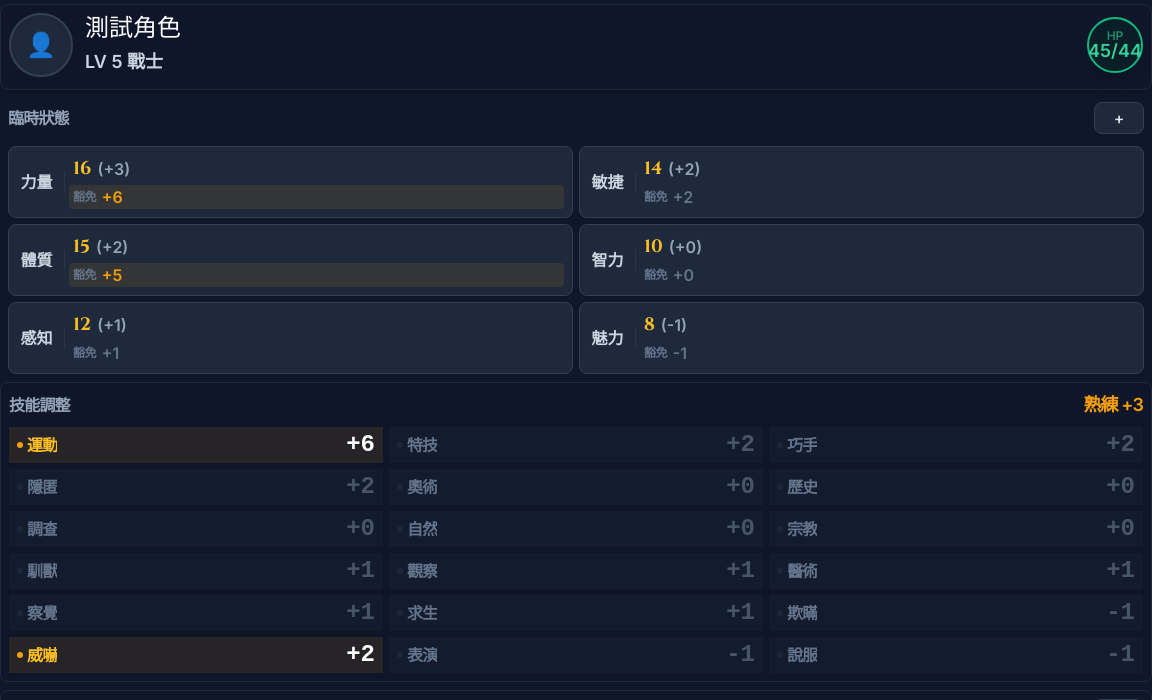
Test: CharacterSheet - Modal 開啟與儲存 › 編輯角色資料 modal：開啟後可看到名稱與職業等級區塊
Click the heading "測試角色".
click(133, 29)  # box [85,13,181,45]
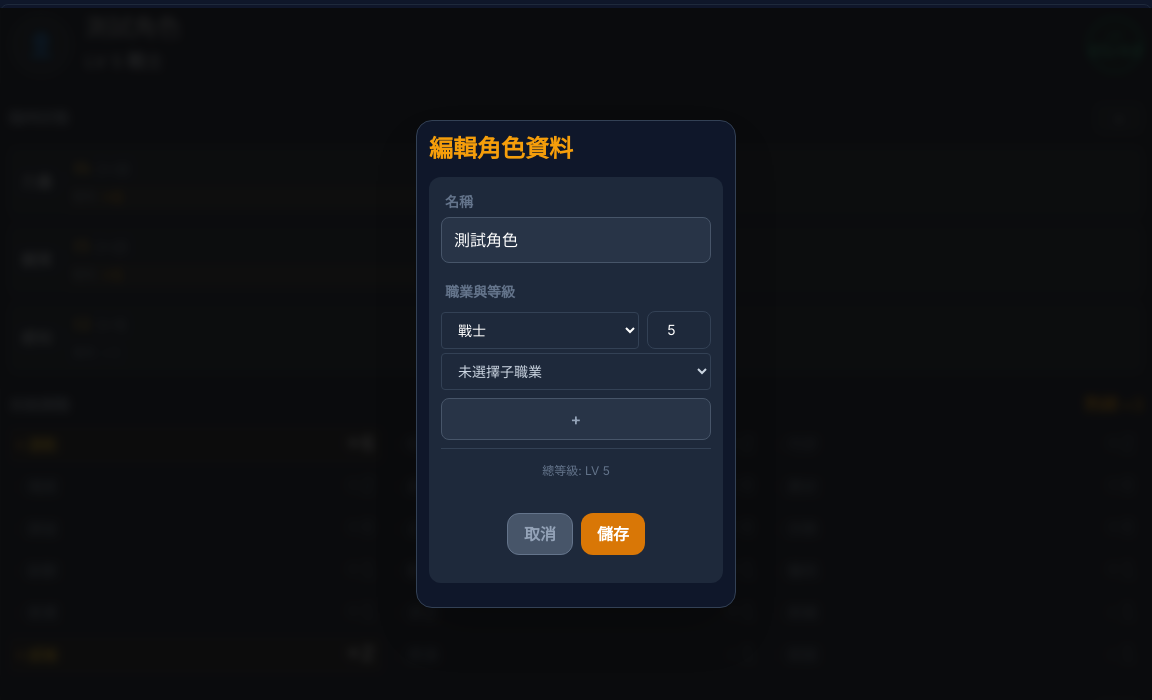
Expected: the heading "編輯角色資料" is shown, [429,134,573,163]
Expected: the field showing "測試角色" is shown, [441,217,711,263]
Expected: the text "職業與等級" is shown, [445,283,515,300]
